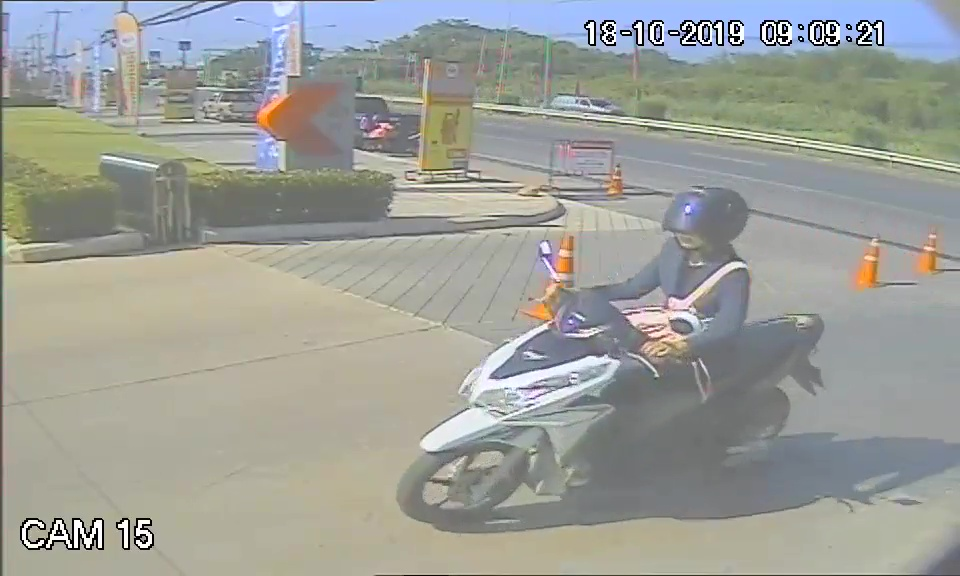motorcycle: (396, 284, 833, 532)
